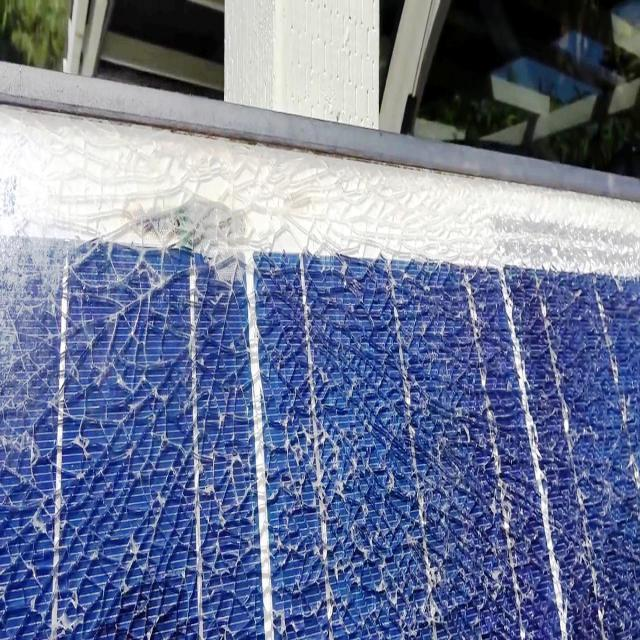faulty: (1, 108, 640, 639)
